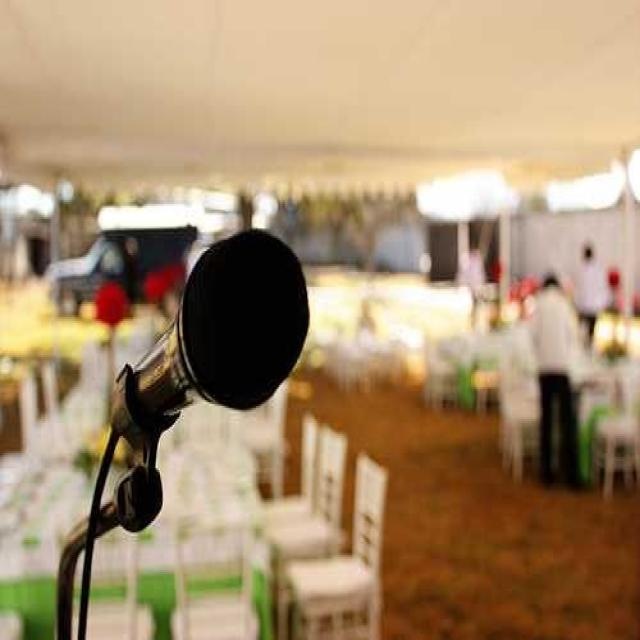microphone: (88, 226, 310, 509)
